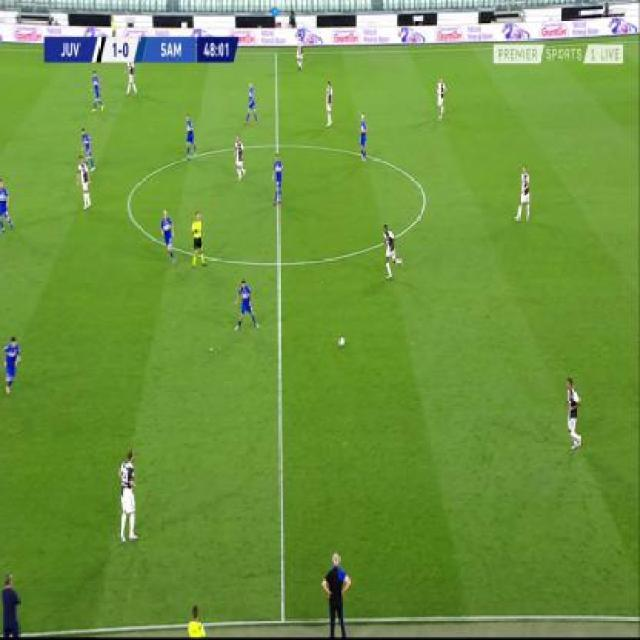ball: (339, 334, 347, 348)
player: (319, 549, 353, 640), (116, 445, 139, 547), (1, 569, 24, 640), (563, 373, 583, 452), (233, 277, 259, 333), (3, 333, 23, 396), (382, 220, 402, 280), (515, 164, 534, 223), (158, 208, 177, 264), (189, 209, 206, 269), (76, 154, 92, 213), (0, 175, 15, 236), (185, 602, 208, 639), (271, 152, 285, 206), (356, 111, 369, 164), (233, 134, 247, 182), (91, 70, 105, 116), (185, 112, 198, 160), (83, 126, 96, 172), (245, 79, 258, 124), (323, 79, 334, 128), (125, 57, 138, 97), (436, 75, 447, 121), (296, 37, 304, 71)
